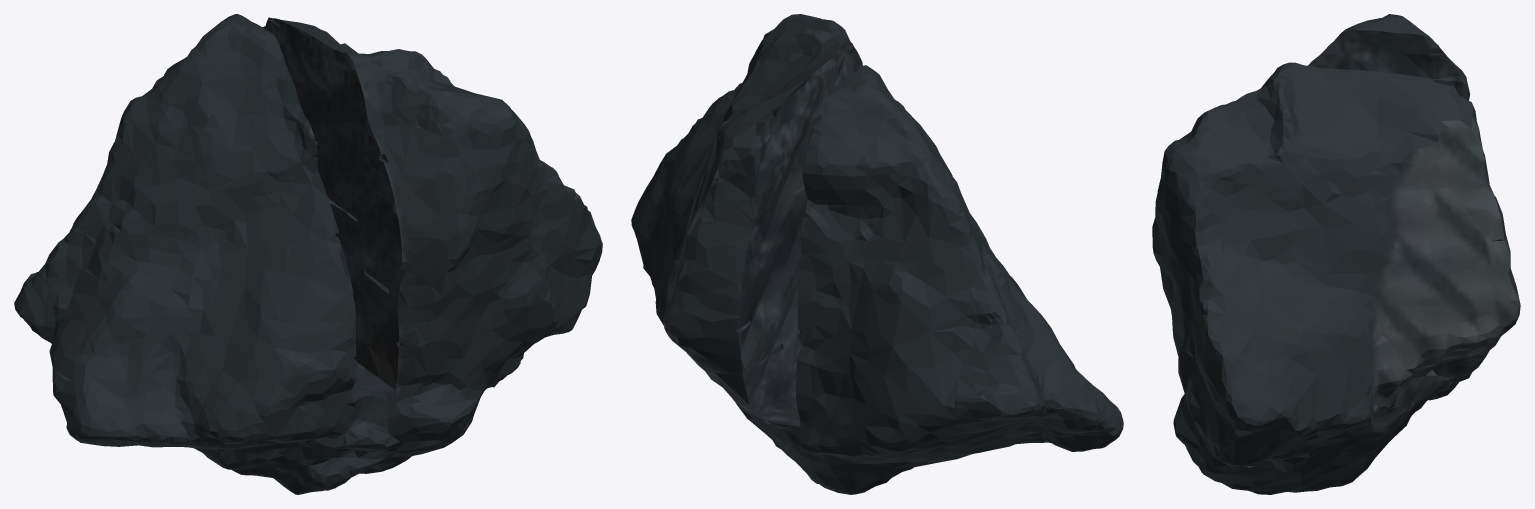
The model's file is kayalik_4.glb.
3 views of the same model, side by side, from view 1: azimuth 30°, elevation 25°; view 2: azimuth 150°, elevation 25°; view 3: azimuth 270°, elevation 25° (orthographic). The views are drawn at different scales.
Parts seen in each view (by area): view 1: lod0; view 2: lod0; view 3: lod0.
Part boxes in pixels (x1,y1,x2,y2): lod0: (14, 14, 602, 494); lod0: (631, 14, 1123, 494); lod0: (1152, 14, 1520, 494).
Size of what is drawn, in the model's own units: 797 by 658 by 494.
Materials: 1 (1 with a texture image).
